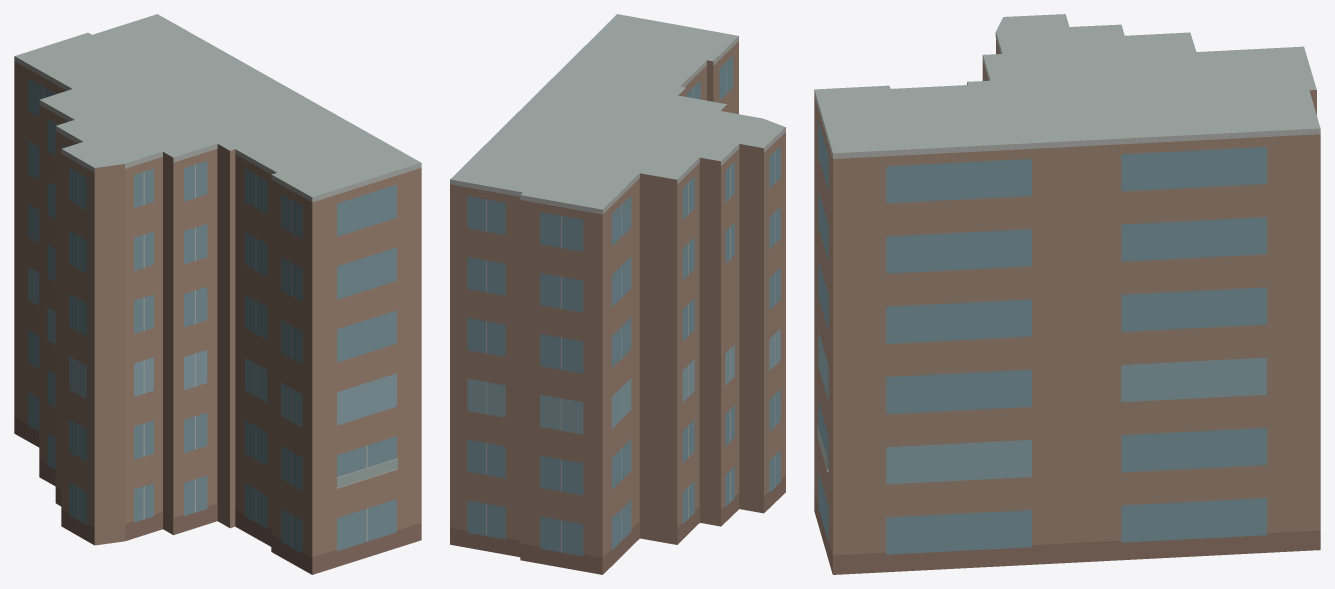
Rendered from survey-upis-32574367.glb.
The picture shows the model from 3 angles, left to right: view 1: azimuth 30°, elevation 25°; view 2: azimuth 150°, elevation 25°; view 3: azimuth 270°, elevation 25°; orthographic projection. The views are drawn at different scales.
Parts seen in each view (by area): view 1: survey-upis-32574367.tmp; view 2: survey-upis-32574367.tmp; view 3: survey-upis-32574367.tmp.
Boxes of the visible parts, x1,y1,x2,y2 form: survey-upis-32574367.tmp: [14, 14, 421, 574]; survey-upis-32574367.tmp: [450, 14, 785, 574]; survey-upis-32574367.tmp: [814, 14, 1320, 574].
Bounding box in the file's own units: 12.99 × 18.3 × 19.93.
